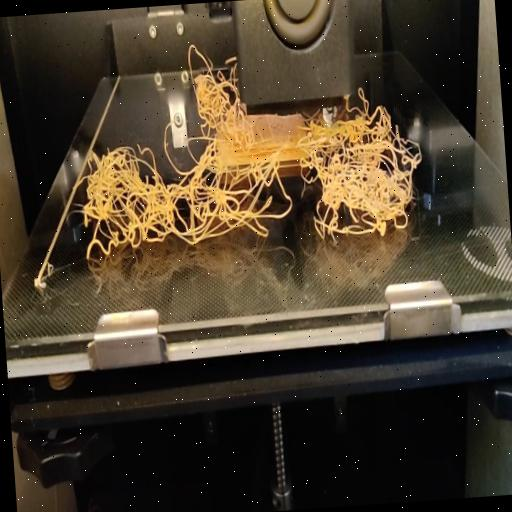spaghetti: (69, 106, 427, 265), (178, 38, 242, 122), (353, 90, 372, 113)
